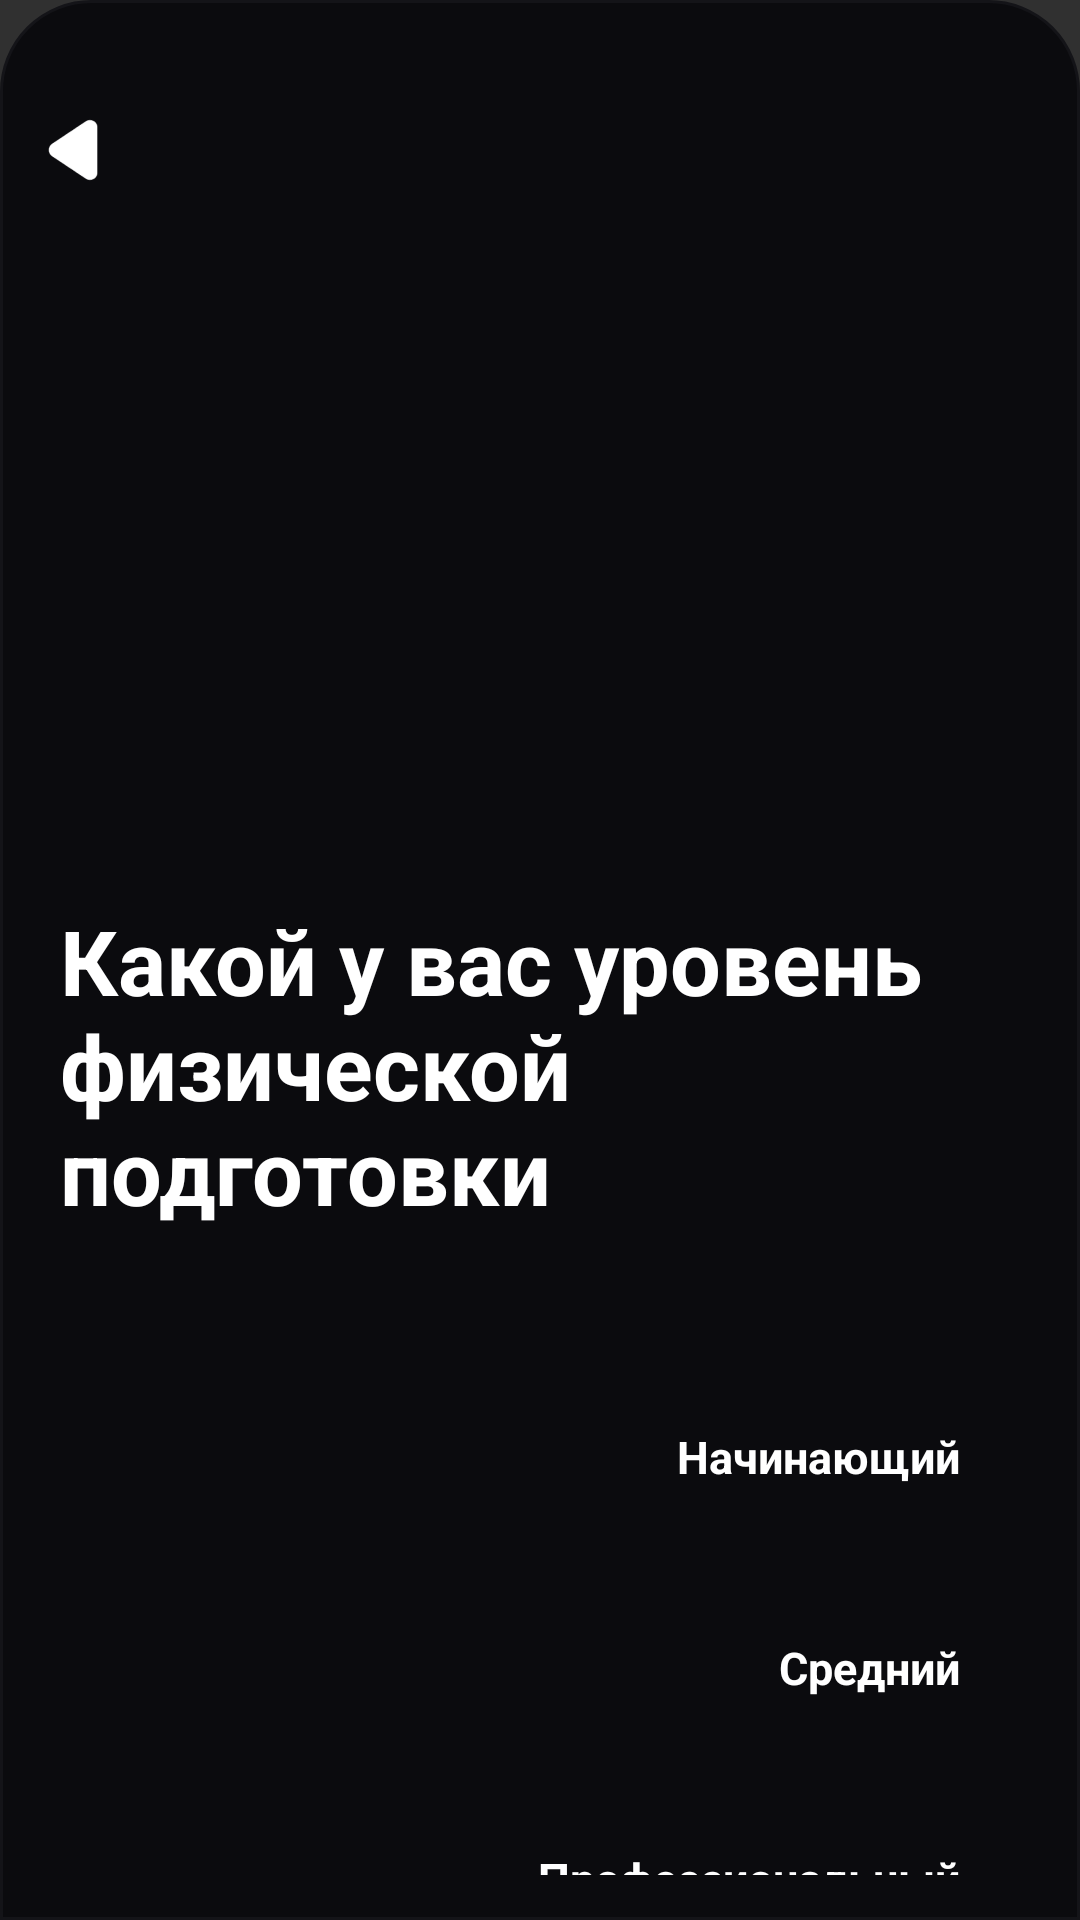

Where icons sit on this 1080px x 1920px app screen, as (x1, y1, x2, y2):
back: (48, 120, 98, 180)
